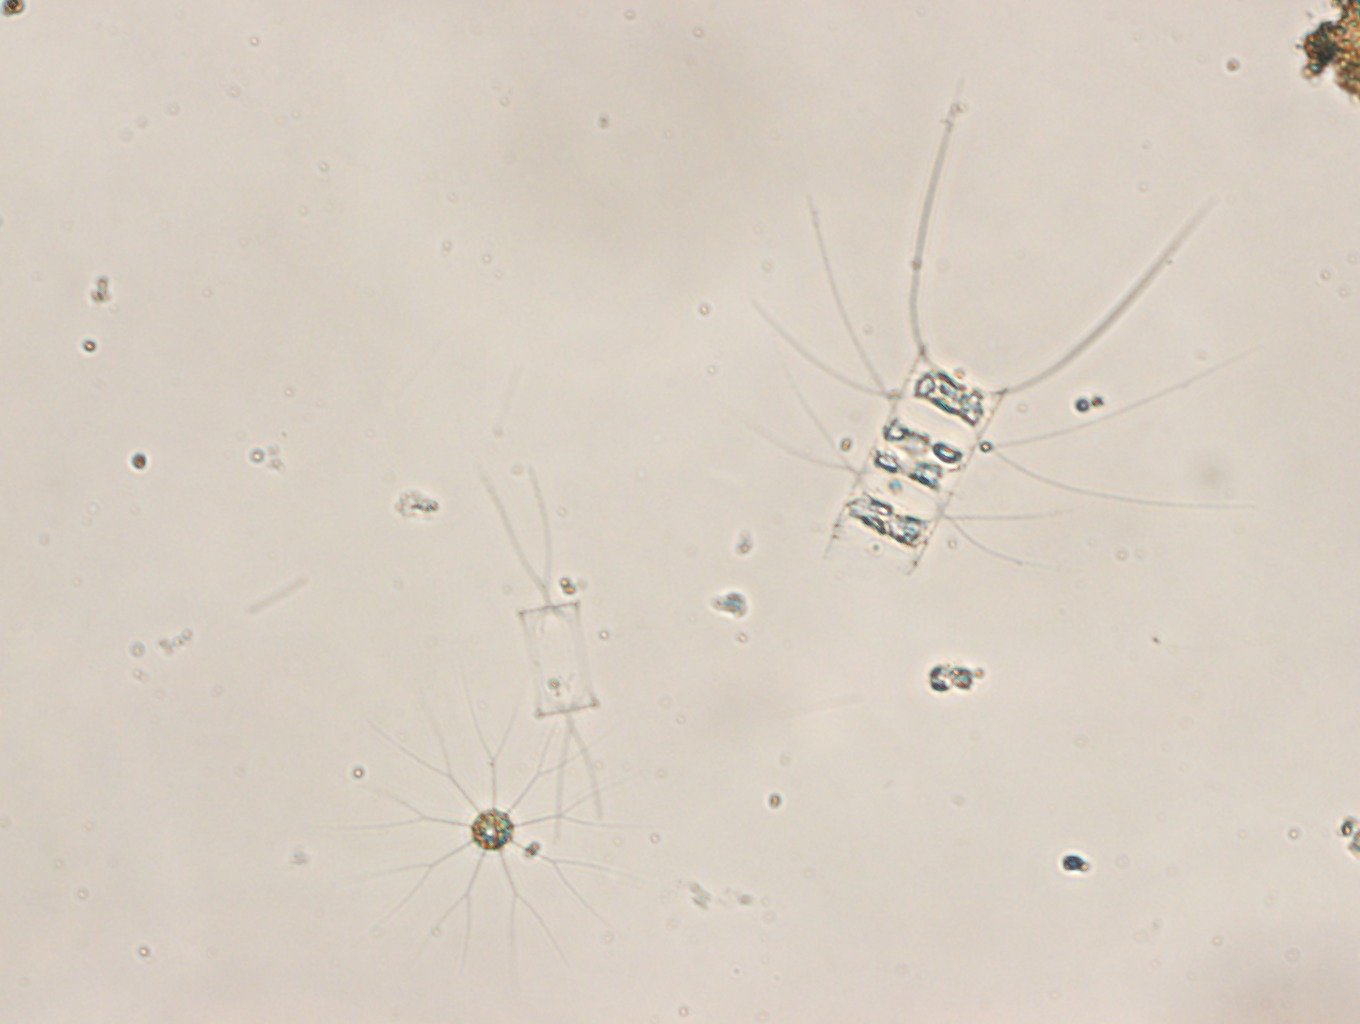bacteriastrum: (349, 689, 653, 987)
chaetoceros: (742, 80, 1252, 584), (474, 466, 615, 842)
